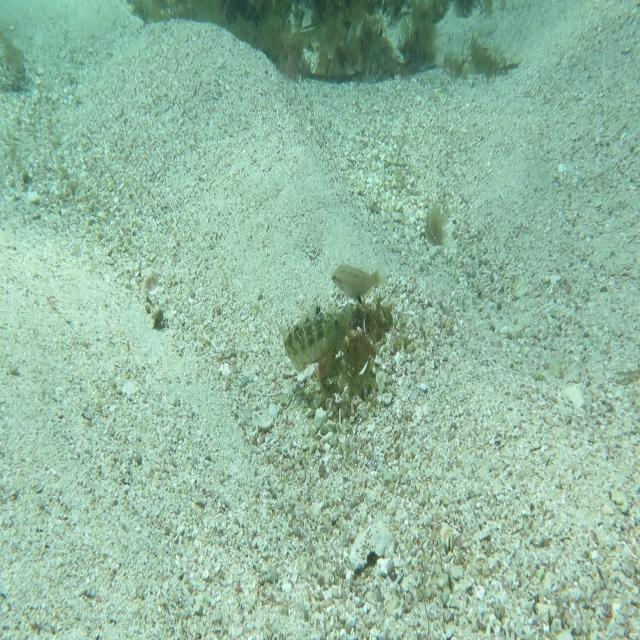BEND: (276, 296, 350, 381)
female: (329, 258, 390, 307)
nest: (302, 291, 398, 428)
vegetation: (131, 0, 527, 32), (261, 37, 440, 94), (424, 202, 452, 255)
